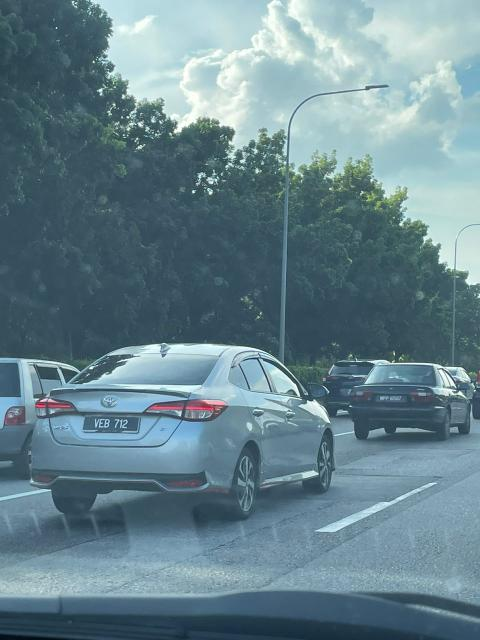License_Plate: (88, 414, 141, 439)
car: (35, 329, 336, 517)
